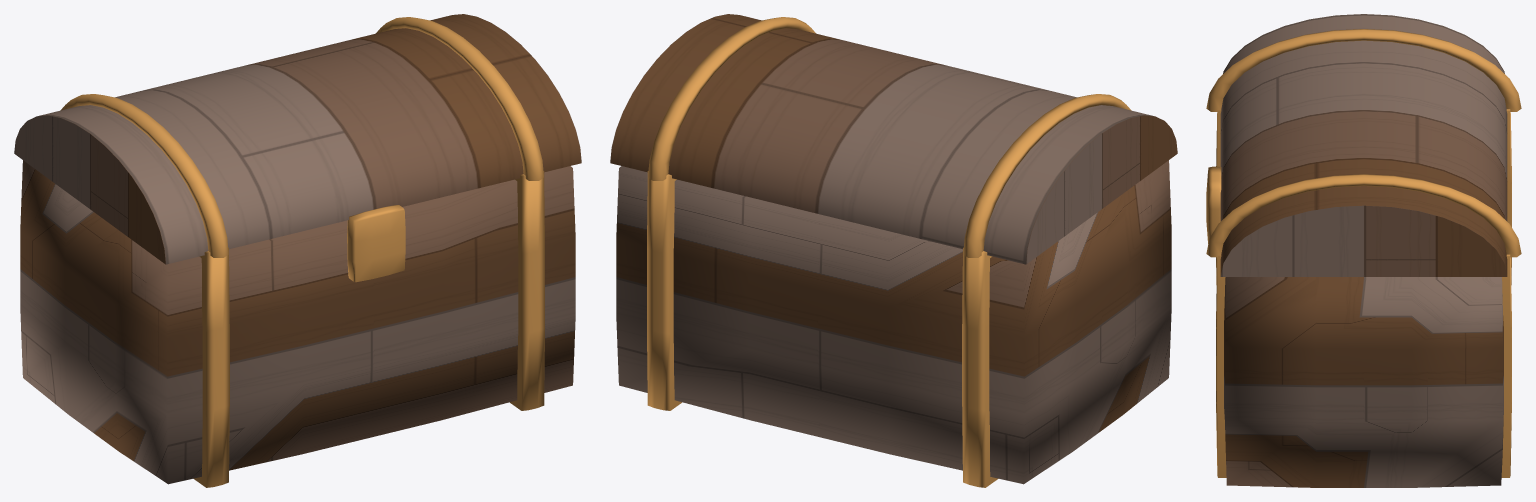
Rendered from station_chest_brass_bands.glb.
The picture shows the model from 3 angles, left to right: view 1: azimuth 30°, elevation 25°; view 2: azimuth 150°, elevation 25°; view 3: azimuth 270°, elevation 25°; orthographic projection. The views are drawn at different scales.
Parts seen in each view (by area): view 1: station_chest_wood_dark, station_chest; view 2: station_chest_wood_dark, station_chest; view 3: station_chest_wood_dark, station_chest.
Part boxes in pixels (x1,y1,x2,y2): station_chest_wood_dark: (14,14,581,484); station_chest: (60,17,544,487); station_chest_wood_dark: (610,14,1177,484); station_chest: (647,17,1131,487); station_chest_wood_dark: (1220,14,1507,487); station_chest: (1206,29,1521,477).
Bounding box in the file's own units: 0.95 × 0.6915 × 0.66.
2 materials, 1 textured.
